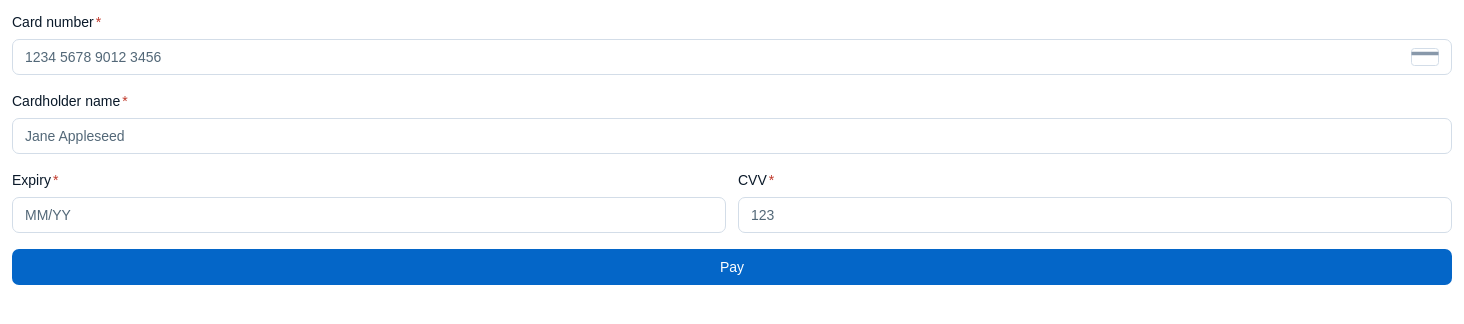
Test case: CreditCardForm › enforces the Amex 4-digit CVV
Type "378282246310005" into the field labelled "Card number*" at point(714, 57), box [25,46,1403,68]
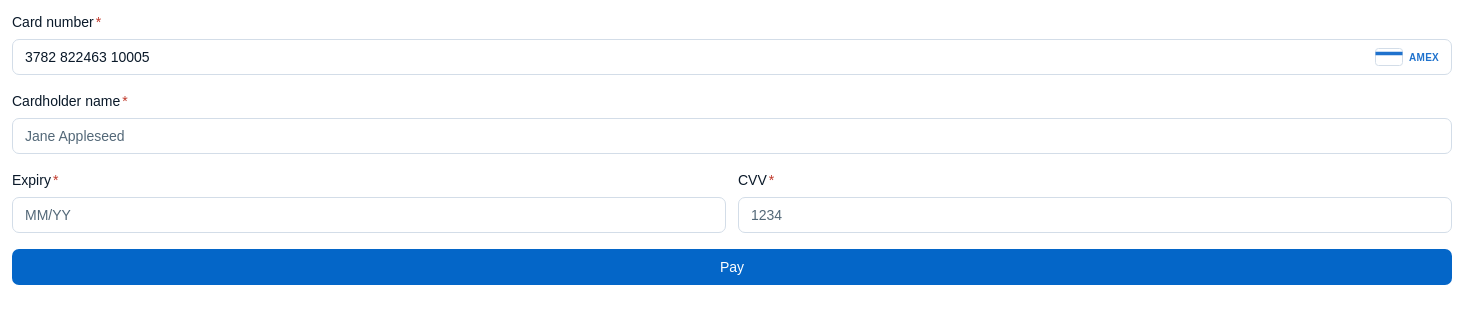
Type "A B" into the field labelled "Cardholder name*" at point(732, 136), box [12,118,1452,154]
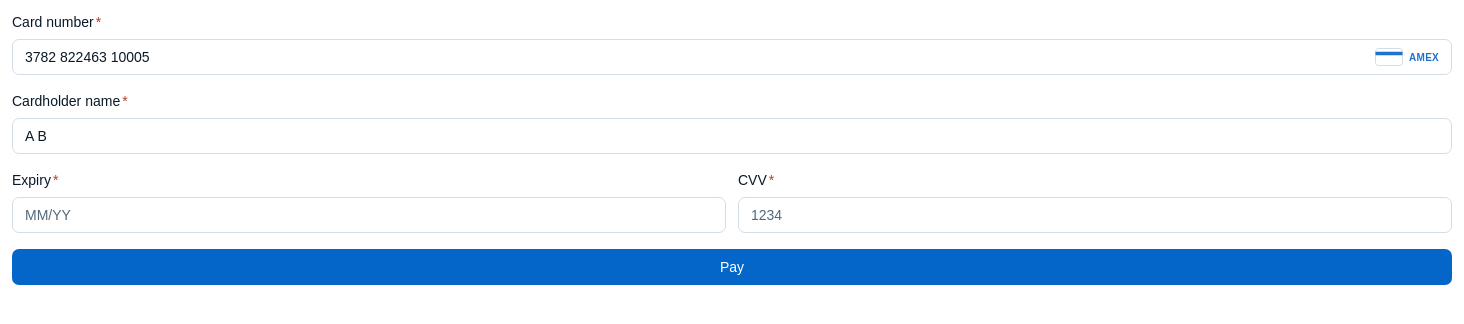
Type "1240" into the field labelled "Expiry*" at point(369, 215), box [12,197,726,233]
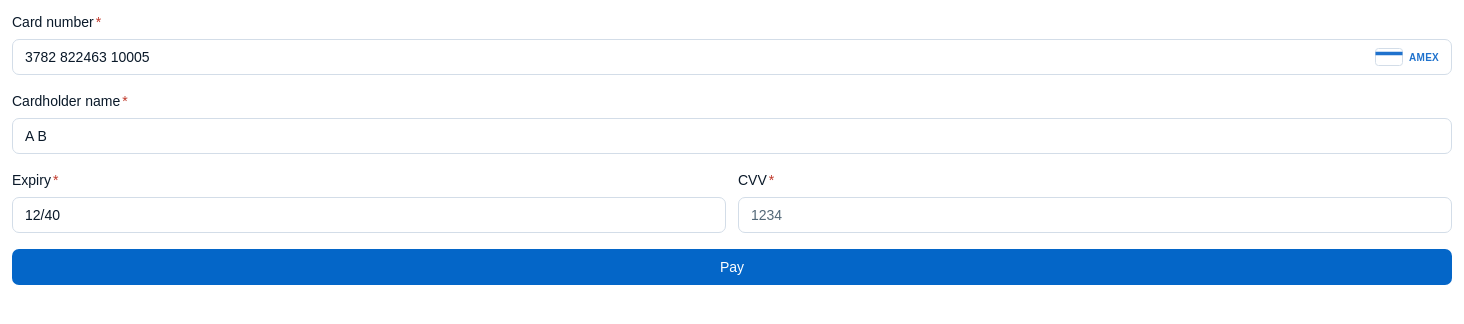
Type "123" into the field labelled "CVV*" at point(1095, 215), box [738,197,1452,233]
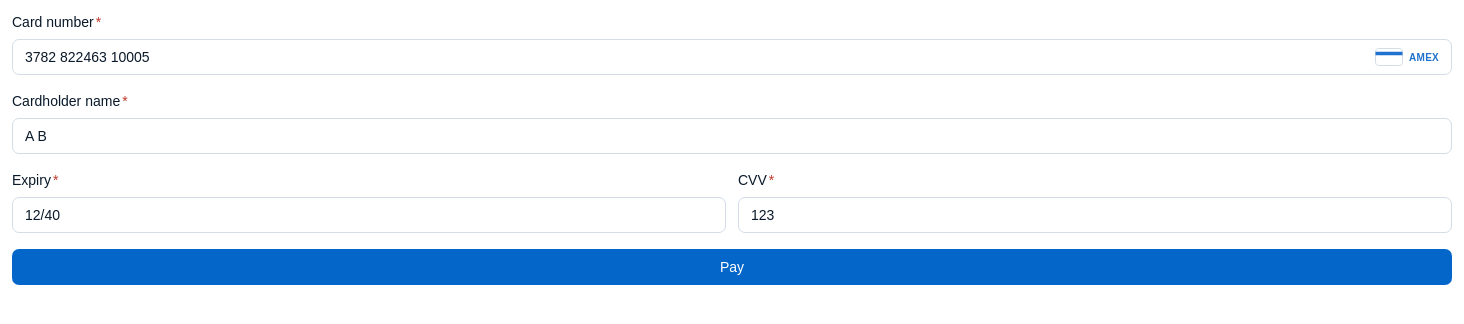
Click the button "Pay" at point(732, 267), box [12,249,1452,285]
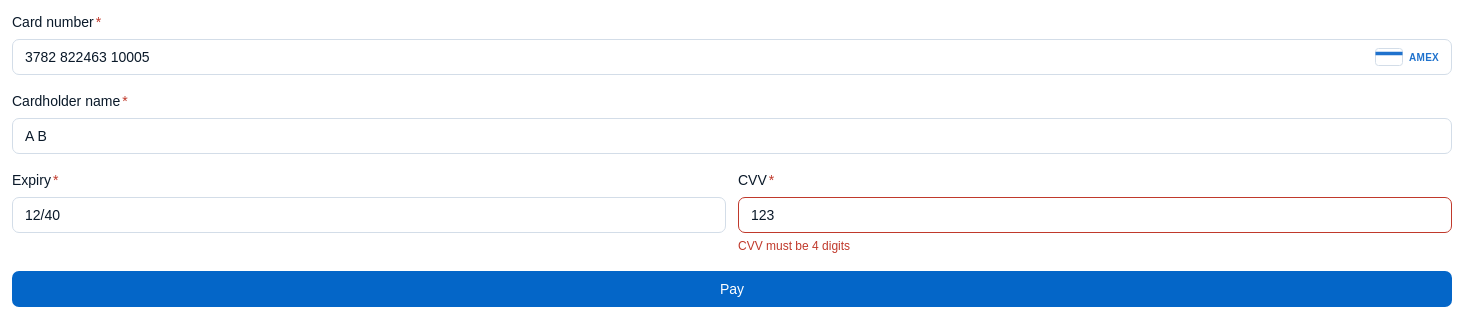
Now the text "CVV must be 4 digits" is shown, box [738,239,850,253]
